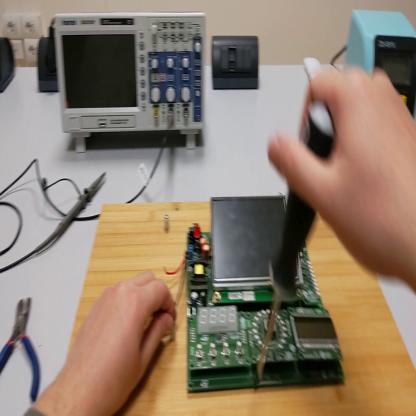hand: (269, 64, 416, 281), (65, 269, 178, 406)
oscilloscope: (54, 14, 206, 149)
oscilloscope probe tip: (32, 172, 107, 254)
pliers: (3, 294, 41, 401)
screwdriver-: (255, 103, 333, 386)
socket: (39, 40, 59, 94), (2, 36, 17, 95)
welder station: (348, 12, 415, 118)
working area: (71, 201, 416, 416)
